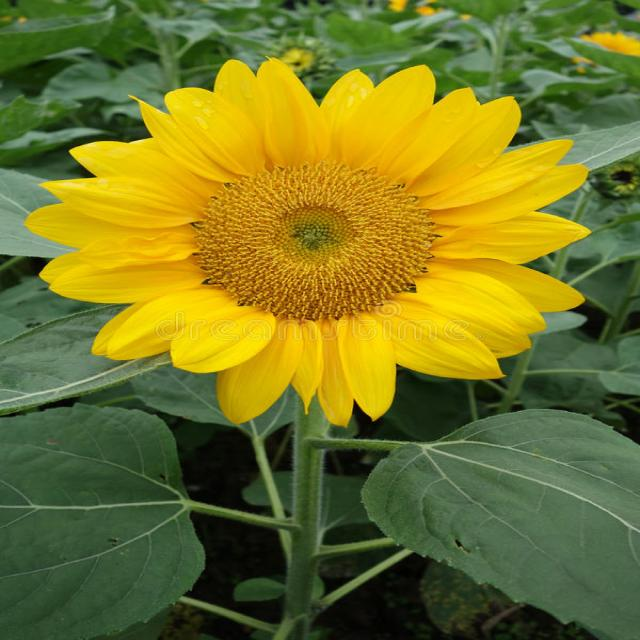sunflower: (22, 48, 591, 425)
